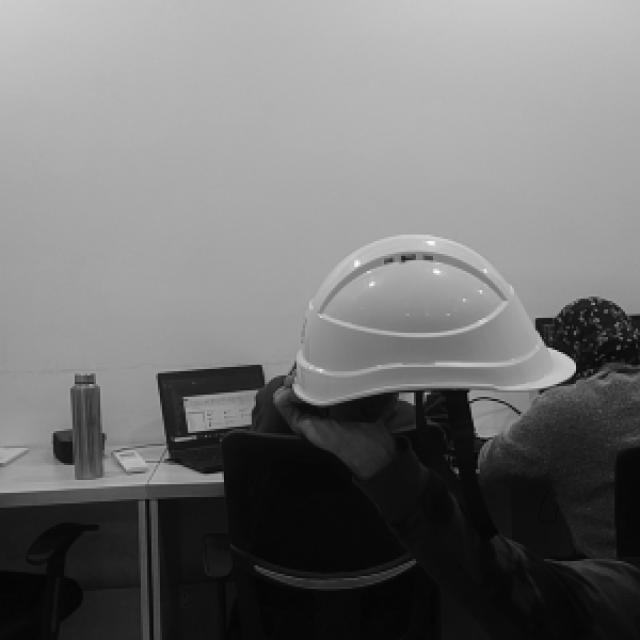safety_helmet: (292, 232, 576, 406)
